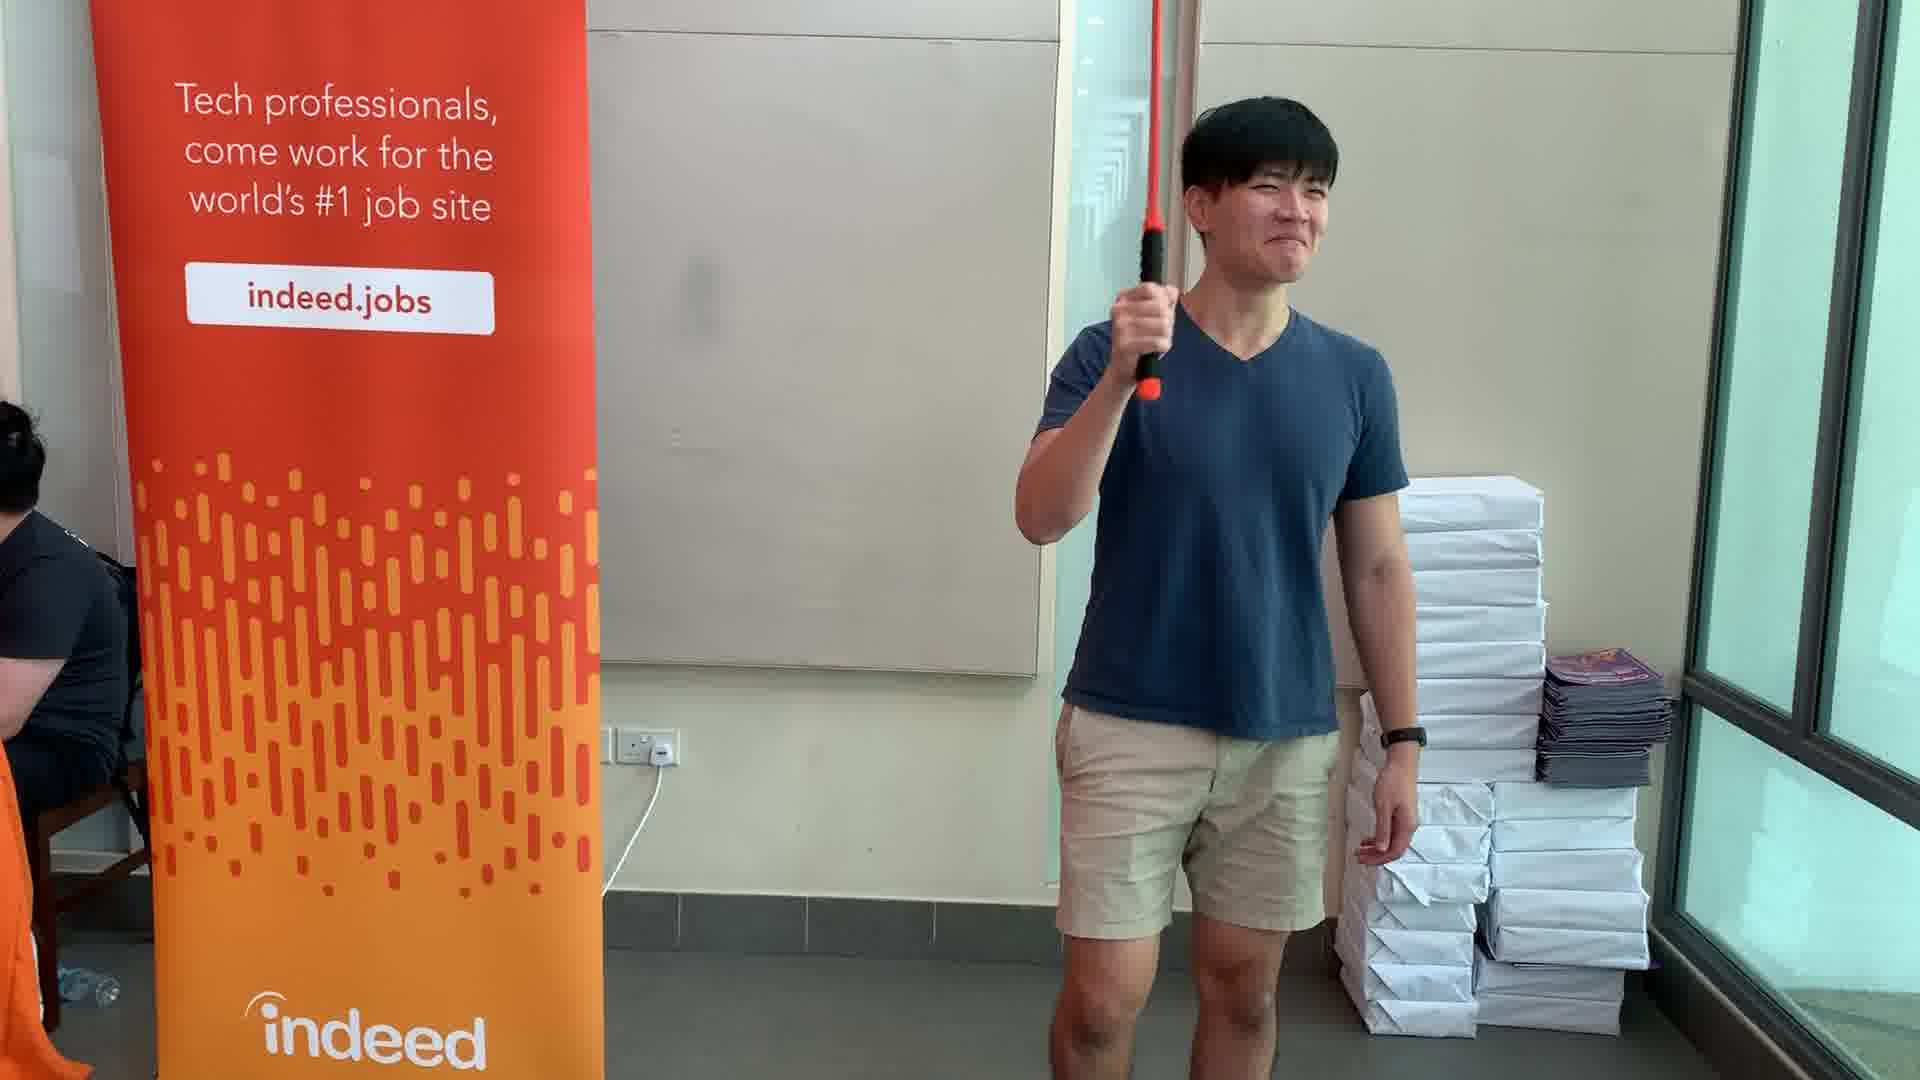knife: (1122, 1, 1182, 413)
